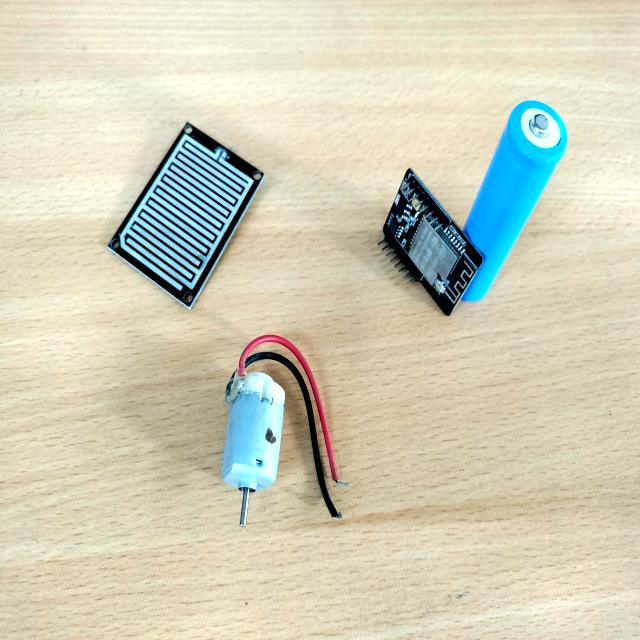3-3-Volt-Battery: (447, 84, 574, 321)
DC-Motor: (201, 354, 300, 542)
ESP32-CAM: (370, 160, 489, 329)
Raindrops-Module: (101, 101, 265, 322)
